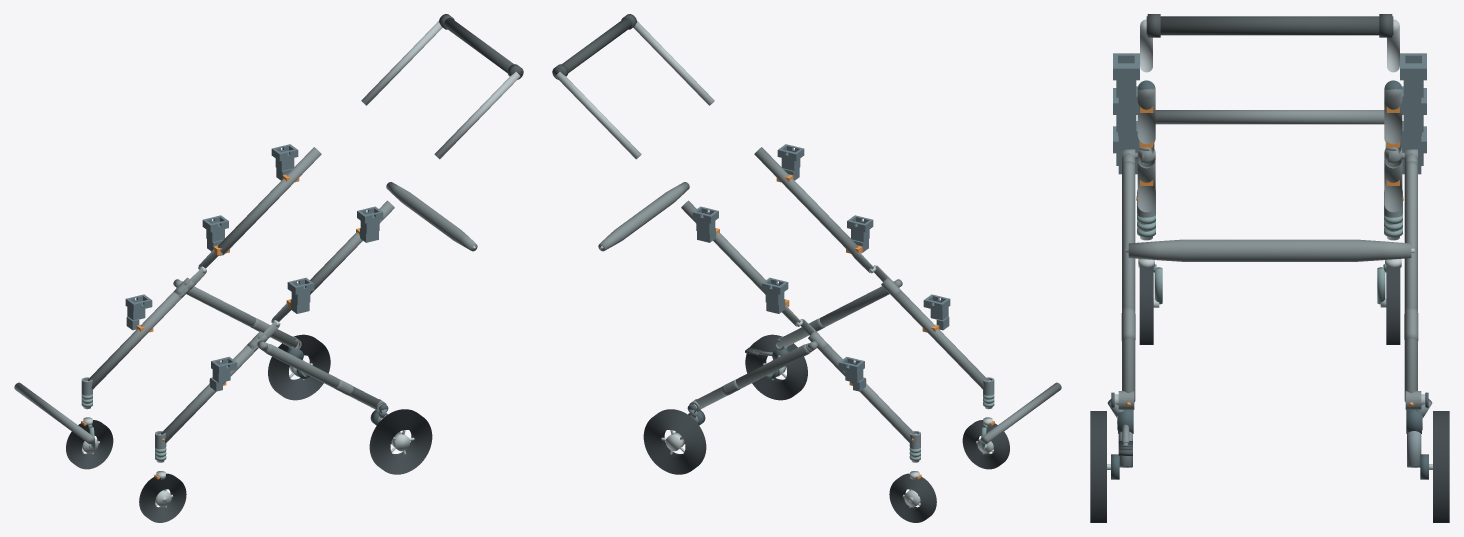
File: w550_state5_wheel_S.glb
3 renders of one model, left to right at view 1: azimuth 30°, elevation 25°; view 2: azimuth 150°, elevation 25°; view 3: azimuth 270°, elevation 25°, orthographic. The views are drawn at different scales.
Visible parts, largest first — view 1: RL_tire.006, RR_tire.006, FL_tire.006, main_upper_1.007, V46_rearbar.007, main_lower_1.007, FR_tire.006, V46_rear_leg_-1.007, V46_rear_leg_1.007, main_lower_-1.007, round_handle.006, handle_slider_-1.006 (+9 smaller); view 2: RR_tire.006, RL_tire.006, FR_tire.006, main_upper_-1.007, V46_rearbar.007, main_lower_-1.007, FL_tire.006, V46_rear_leg_1.007, V46_rear_leg_-1.007, main_lower_1.007, round_handle.006, handle_slider_1.006 (+9 smaller); view 3: V46_rearbar.007, round_handle.006, front_fixed_round_tube.006, V46_rear_leg_1.007, V46_rear_leg_-1.007, RL_tire.006, RR_tire.006, Universal_Cabin_Receiver_H_1, Universal_Cabin_Receiver_H_-1, FL_tire.006, FR_tire.006, main_upper_-1.007 (+10 smaller).
Part boxes in pixels (x1,y1,x2,y2): RL_tire.006: [369, 409, 432, 474]; RR_tire.006: [268, 334, 330, 400]; FL_tire.006: [139, 473, 186, 522]; main_upper_1.007: [217, 147, 321, 254]; V46_rearbar.007: [386, 182, 477, 251]; main_lower_1.007: [87, 288, 188, 389]; FR_tire.006: [66, 420, 113, 469]; V46_rear_leg_-1.007: [265, 344, 380, 408]; V46_rear_leg_1.007: [186, 286, 298, 347]; main_lower_-1.007: [161, 345, 257, 443]; round_handle.006: [444, 18, 522, 78]; handle_slider_-1.006: [434, 72, 520, 159]; RR_tire.006: [643, 409, 706, 474]; RL_tire.006: [745, 334, 807, 400]; FR_tire.006: [889, 473, 936, 522]; main_upper_-1.007: [754, 147, 858, 254]; V46_rearbar.007: [598, 182, 689, 251]; main_lower_-1.007: [887, 288, 988, 389]; FL_tire.006: [962, 420, 1009, 469]; V46_rear_leg_1.007: [695, 344, 810, 408]; V46_rear_leg_-1.007: [777, 286, 889, 347]; main_lower_1.007: [818, 345, 914, 443]; round_handle.006: [553, 18, 631, 78]; handle_slider_1.006: [555, 72, 641, 159]; V46_rearbar.007: [1128, 239, 1411, 261]; round_handle.006: [1146, 16, 1393, 35]; front_fixed_round_tube.006: [1155, 110, 1384, 124]; V46_rear_leg_1.007: [1404, 161, 1417, 402]; V46_rear_leg_-1.007: [1122, 161, 1135, 402]; RL_tire.006: [1090, 411, 1106, 522]; RR_tire.006: [1433, 411, 1449, 522]; Universal_Cabin_Receiver_H_1: [1400, 53, 1426, 113]; Universal_Cabin_Receiver_H_-1: [1113, 53, 1139, 113]; FL_tire.006: [1139, 266, 1153, 344]; FR_tire.006: [1386, 266, 1400, 344]; main_upper_-1.007: [1137, 80, 1155, 144].
Bounding box in the file's own units: 1.51 × 1.22 × 0.641.
